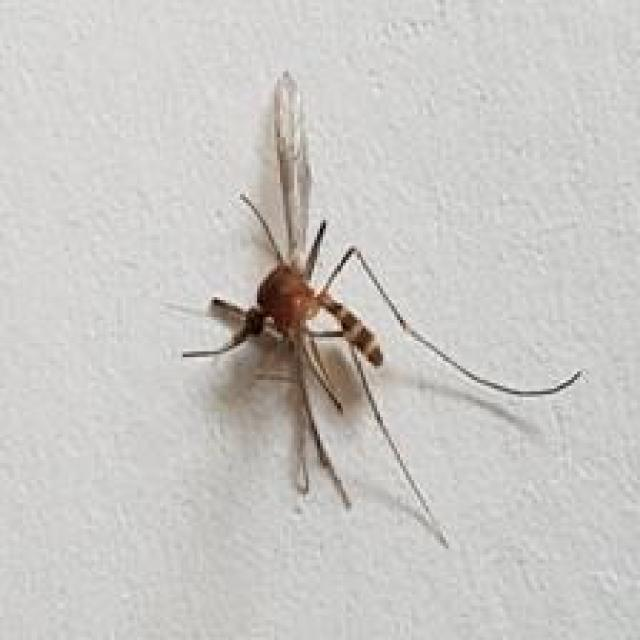Culex: (165, 67, 586, 550)
